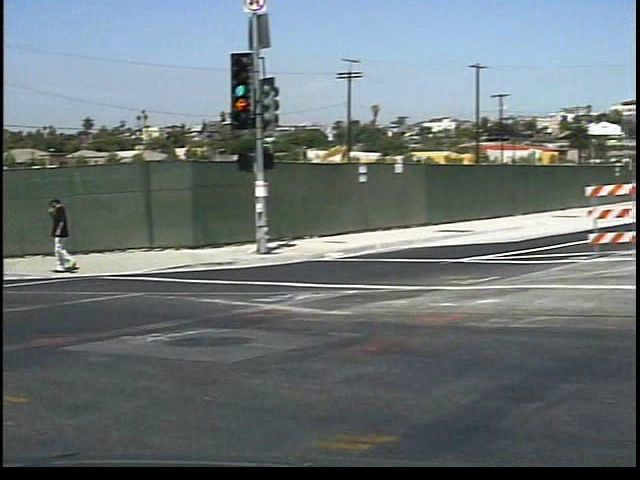person: (35, 191, 75, 283)
